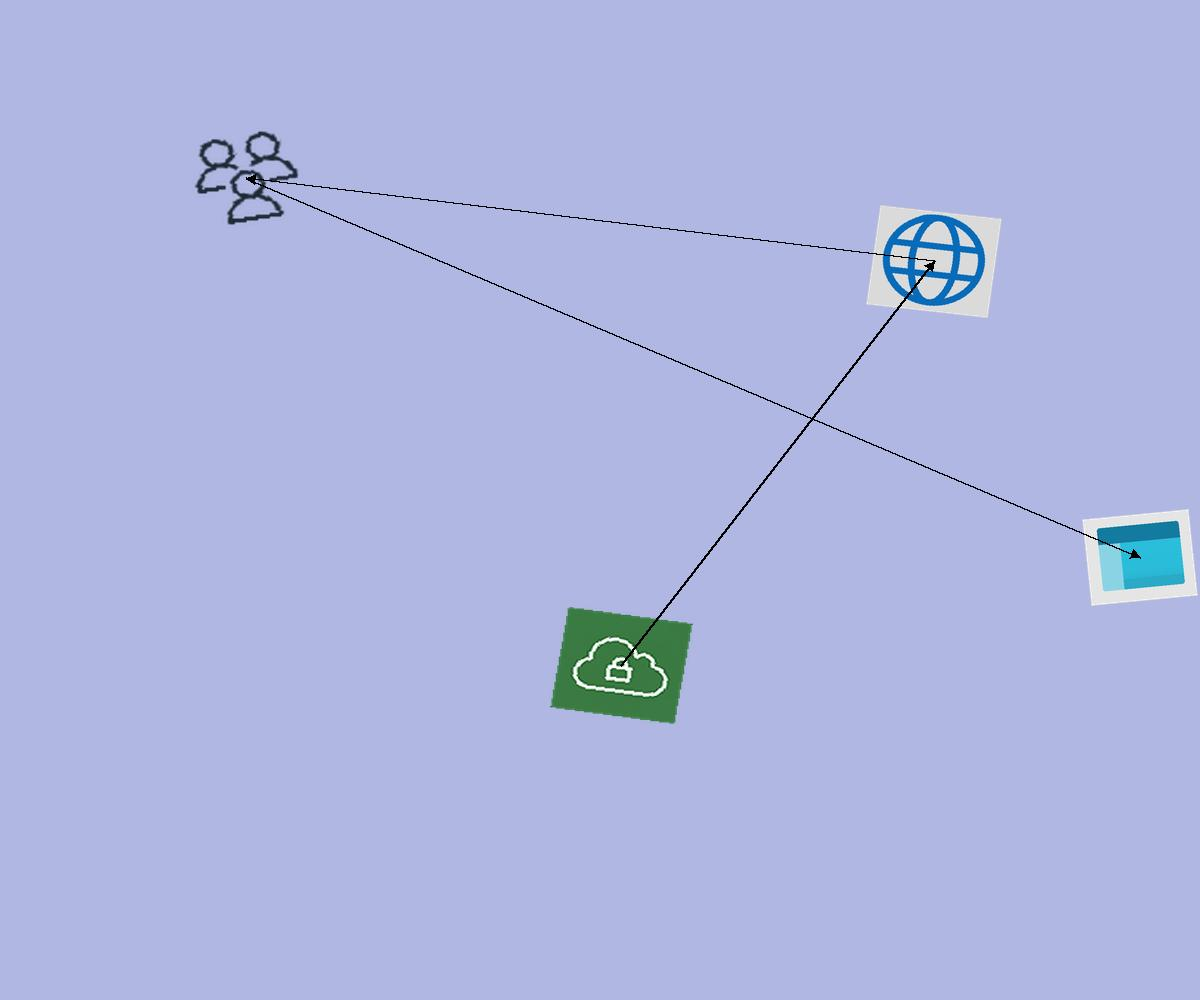AWS-Private_vpc: (550, 606, 693, 725)
AWS-Res_Users: (179, 122, 314, 234)
Azure_http: (866, 205, 1002, 318)
Azure_management-portal: (1082, 509, 1198, 606)
